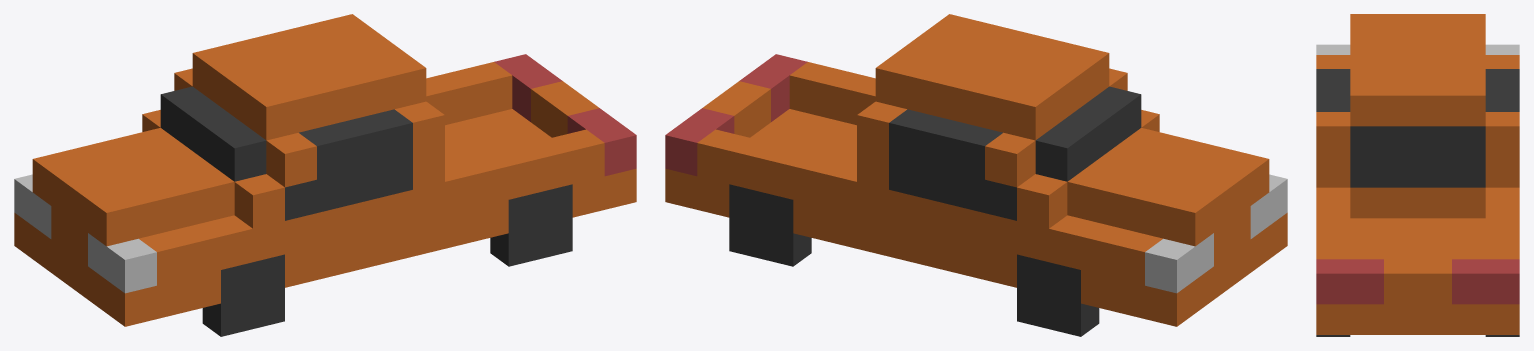
Rendered from car-v5-orange.gltf.
3 renders of one model, left to right at view 1: azimuth 30°, elevation 25°; view 2: azimuth 150°, elevation 25°; view 3: azimuth 270°, elevation 25°, orthographic. The views are drawn at different scales.
Parts seen in each view (by area): view 1: model, wheels; view 2: model, wheels; view 3: model.
Boxes of the visible parts, x1,y1,x2,y2 form: model: [14, 14, 636, 326]; wheels: [202, 184, 572, 336]; model: [665, 14, 1287, 326]; wheels: [729, 184, 1099, 336]; model: [1316, 14, 1519, 334].
Size of the model in its own units: 1.6 by 0.6 by 0.6.
Materials: 2 (2 with a texture image).
